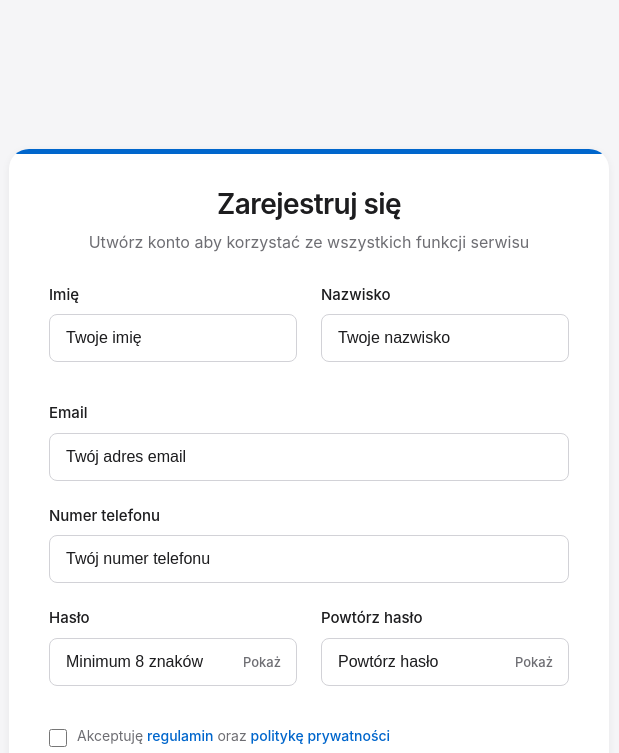
Scenario: <RegisterPage /> › shows password mismatch error
Type "A" into the field labelled "Imię" at (173, 338), box [49,314,297,362]
Type "B" into the field labelled "Nazwisko" at (445, 338), box [321,314,569,362]
Type "a@b.com" into the field labelled "Email" at (309, 457), box [49,433,569,481]
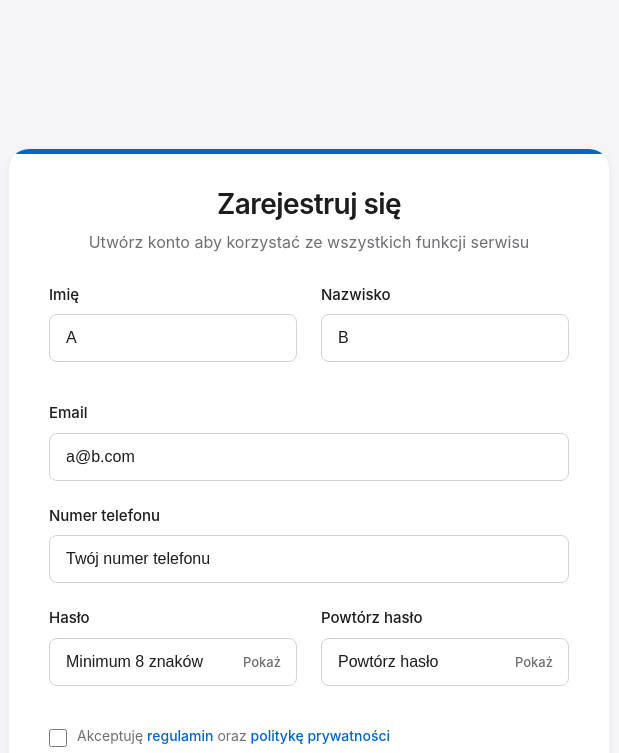
Type "123456789" into the field labelled "Numer telefonu" at (309, 559), box [49,535,569,583]
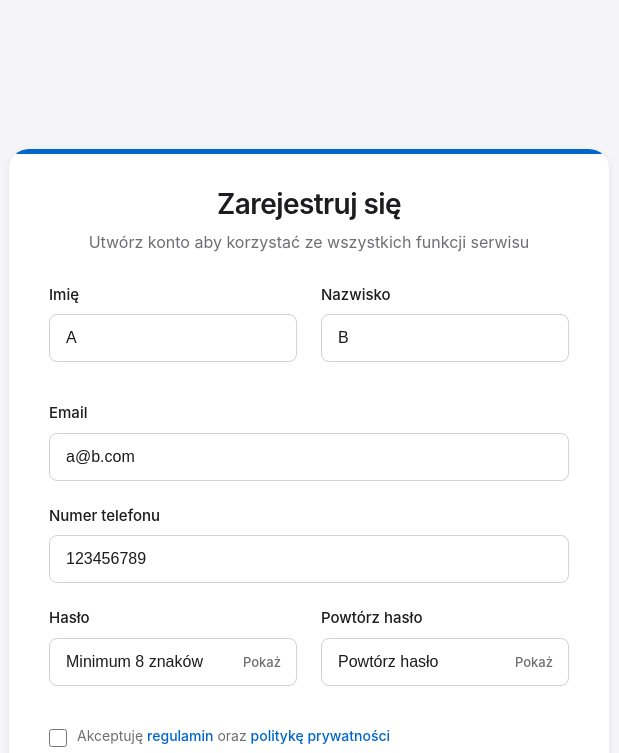
Type "pass1" into the password field labelled "Hasło" at (173, 662), box [49,638,297,686]
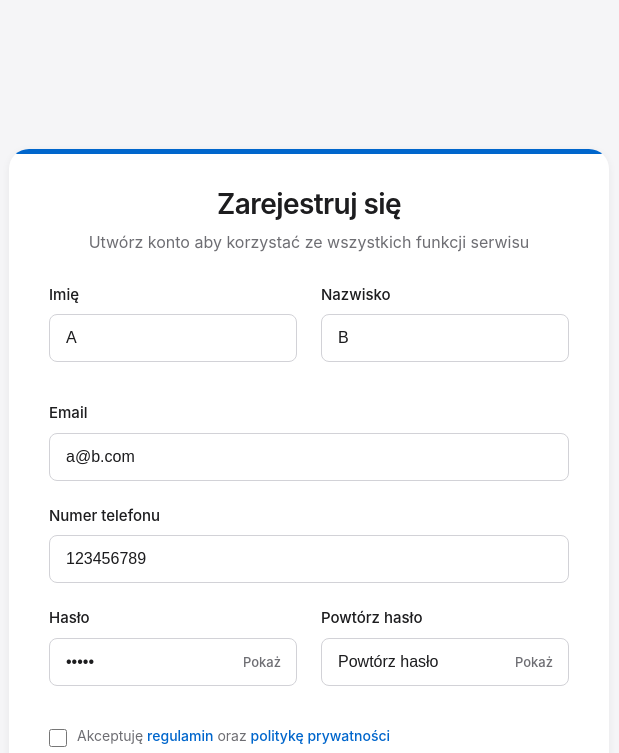
Type "pass2" into the password field labelled "Powtórz hasło" at (445, 662), box [321,638,569,686]
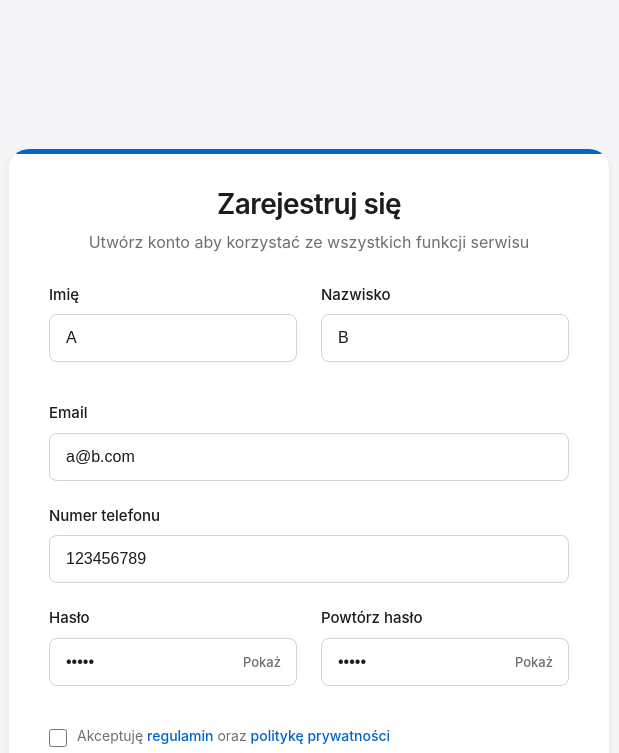
Click the checkbox labelled "Akceptuję regulamin oraz politykę prywatności" at (58, 738), box [49,729,67,747]
(page scrolled)
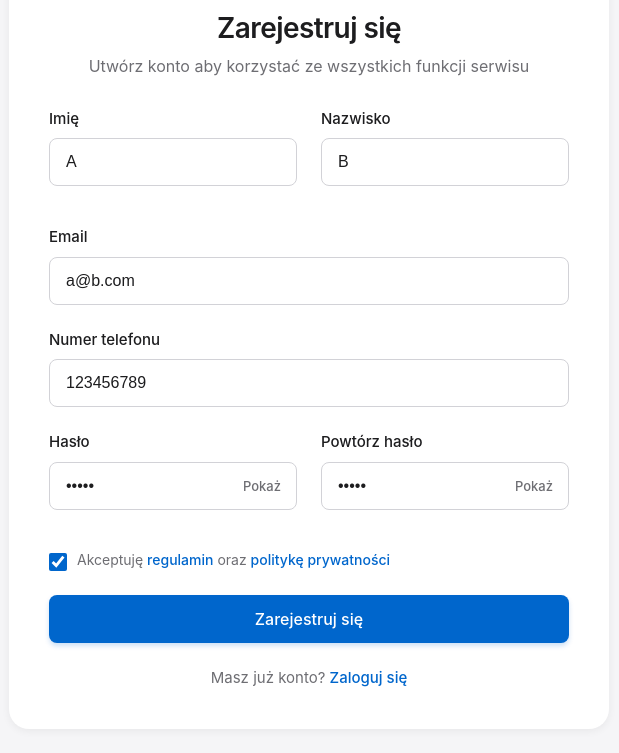
Click the button "Zarejestruj się" at (309, 619), box [49,595,569,643]
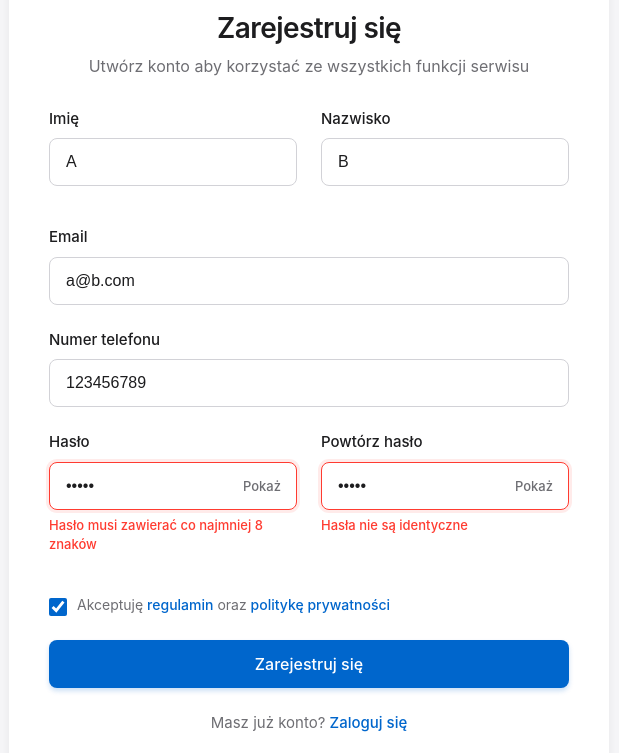
expect the text "Hasła nie są identyczne" is shown: met, box [321,517,468,533]
